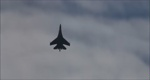maybay_muctieu: (48, 22, 71, 52)
